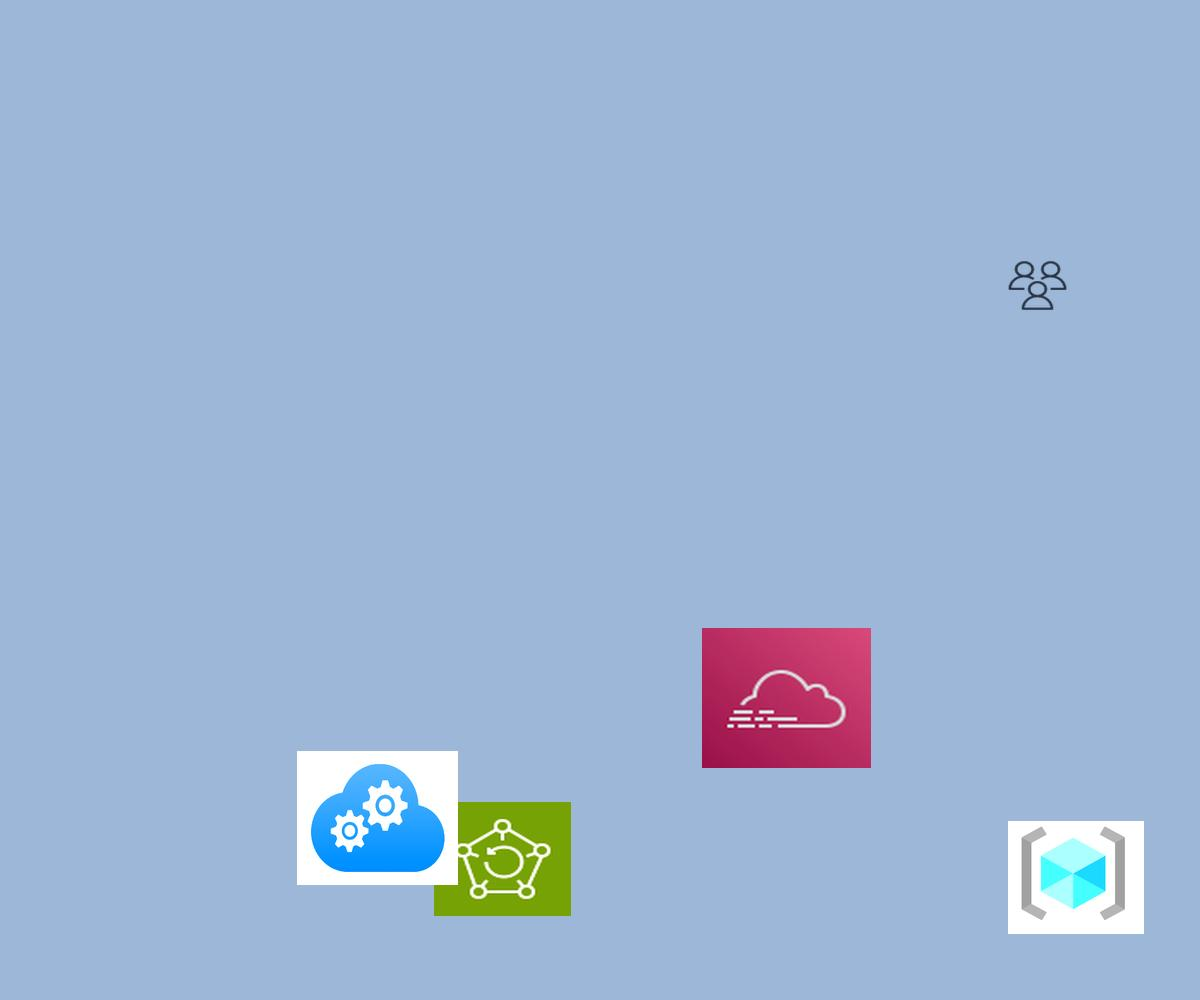AWS-Backup: (434, 802, 571, 916)
AWS-CloudTrail: (702, 628, 871, 768)
AWS-Res_Users: (1006, 259, 1069, 312)
Azure_cloud_services: (297, 751, 458, 885)
Azure_resource_group: (1008, 821, 1144, 934)
